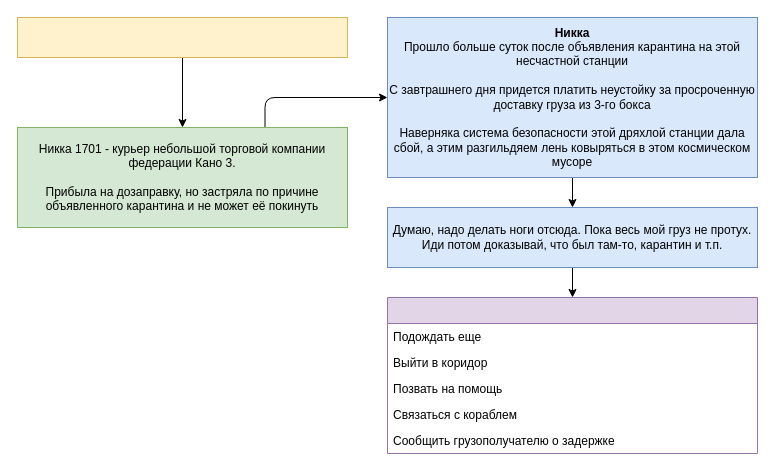
Image size: 775x474. Some labels were removed from this diagram. The shapes that lost their labels are listed below. From the top down, each one's box as (x1, y1, x2, y2) in pixels, then its label:
(16, 16, 348, 58): Ремонтно-заправочная станция "Ликон-С1", звёздная система Ликон
(386, 296, 758, 454): Комната Никки, жилой сектор
